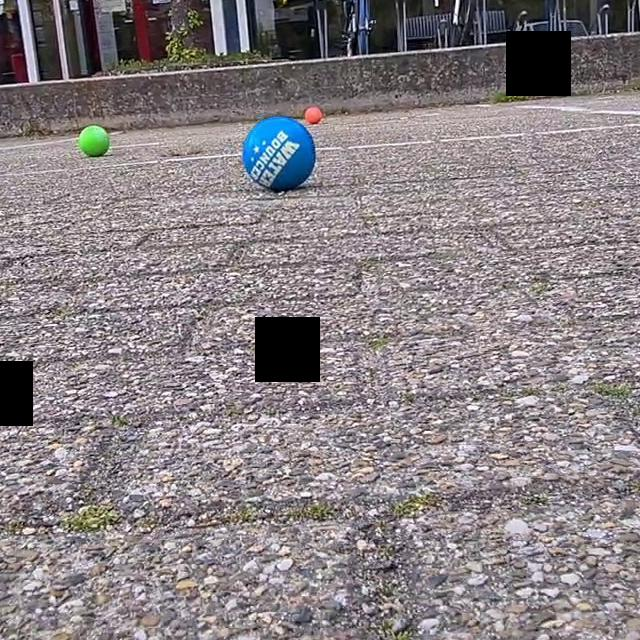ball: (76, 122, 110, 161), (302, 104, 324, 125)
